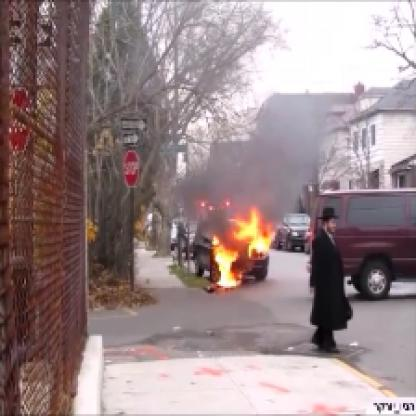Fire: (195, 201, 264, 299)
